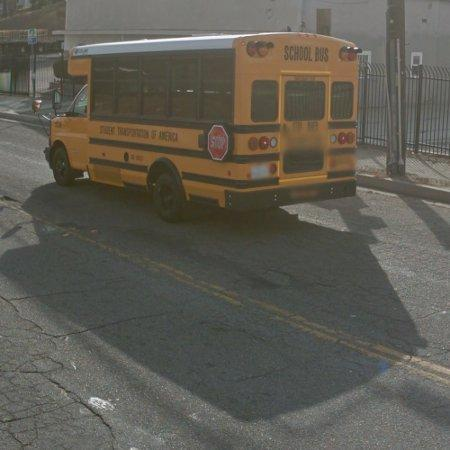buses: (45, 32, 360, 220)
